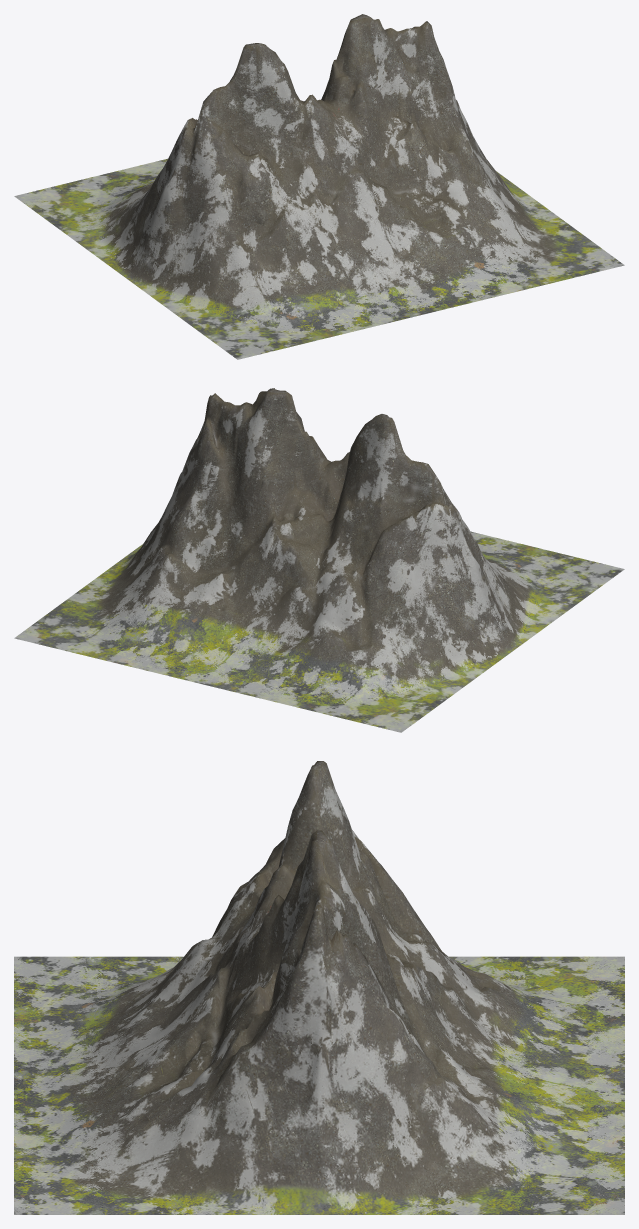
File: mountain.glb
3 renders of one model, top to bottom at view 1: azimuth 30°, elevation 25°; view 2: azimuth 150°, elevation 25°; view 3: azimuth 270°, elevation 25°, orthographic. The views are drawn at different scales.
Visible parts, largest first — view 1: Landscape.002; view 2: Landscape.002; view 3: Landscape.002.
Boxes of the visible parts, x1=… form: Landscape.002: x1=14, y1=14, x2=624, y2=359; Landscape.002: x1=14, y1=388, x2=624, y2=732; Landscape.002: x1=14, y1=761, x2=624, y2=1214.
Bounding box in the file's own units: 1049 × 525 × 1049.
Materials: 1 (1 with a texture image).
